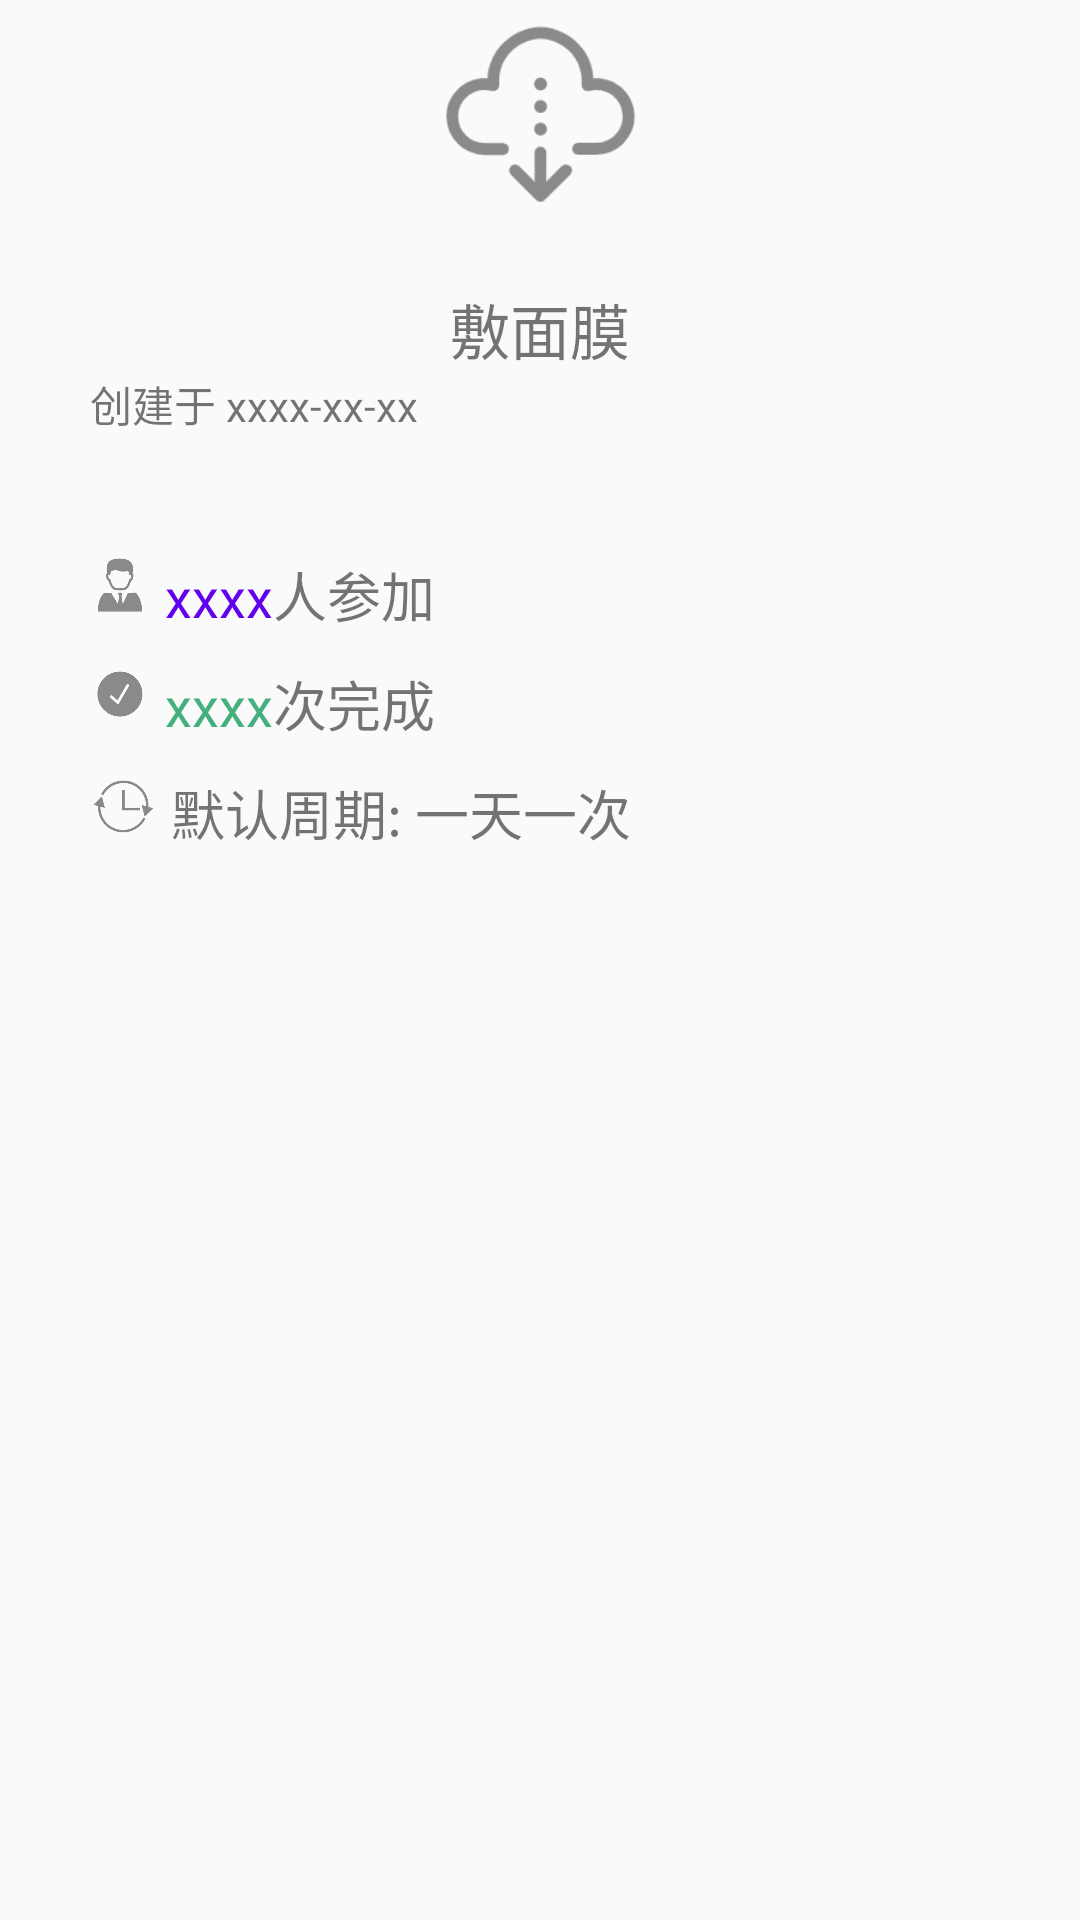

Where icons sit on this 1080w x 1920h app screen, as (x1, y1, x2, y2):
loop: (94, 780, 153, 832)
people: (98, 558, 142, 612)
success: (97, 671, 143, 717)
synx: (446, 26, 635, 202)
